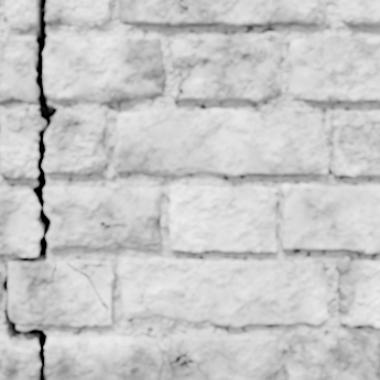brick: (113, 109, 379, 175), (117, 257, 326, 325), (169, 33, 281, 100), (169, 184, 276, 250), (279, 185, 379, 252), (8, 261, 110, 324), (288, 36, 379, 101), (118, 0, 325, 26), (167, 334, 278, 379), (286, 332, 379, 379), (337, 261, 379, 325), (71, 260, 112, 306), (338, 0, 379, 24), (171, 363, 205, 379)
broken_brick: (43, 34, 166, 103), (45, 184, 163, 250), (46, 335, 163, 379), (46, 107, 106, 174), (0, 110, 42, 177), (0, 188, 39, 257), (0, 39, 36, 103), (46, 0, 112, 27), (0, 337, 37, 379), (4, 0, 35, 31)
crack: (1, 0, 60, 379), (65, 259, 109, 311), (169, 349, 208, 379), (174, 57, 200, 98), (41, 261, 57, 290), (271, 186, 277, 197), (334, 372, 340, 379)
